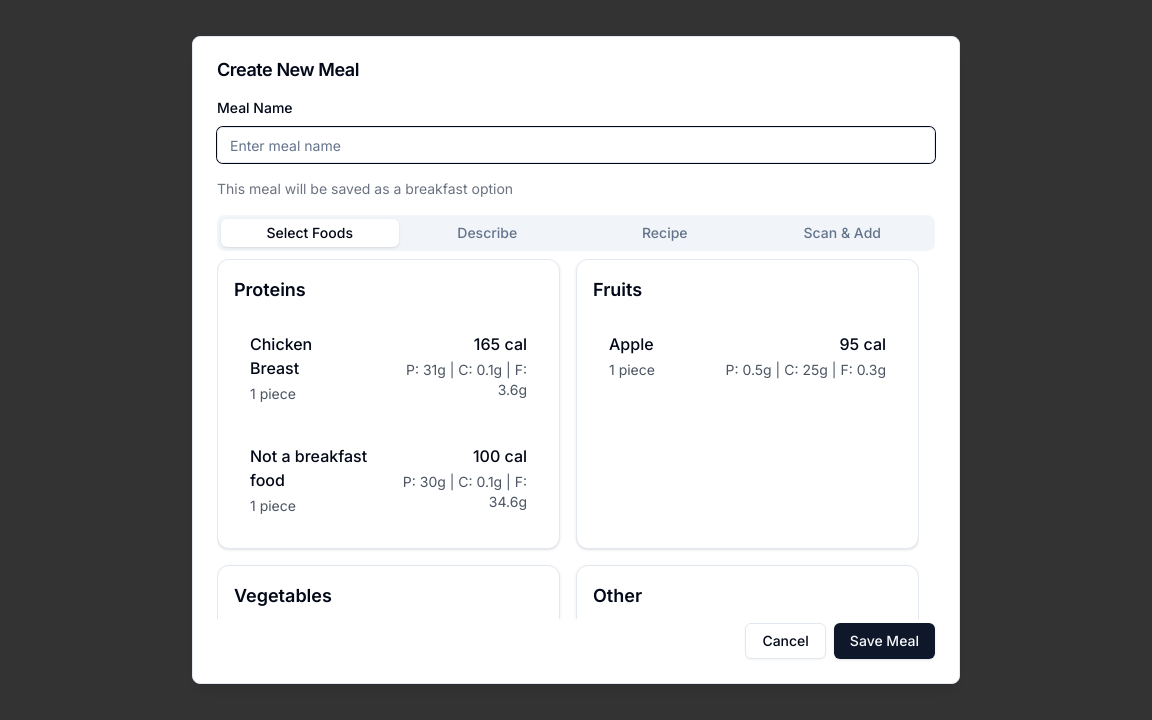
Test case: MealEditor › validates meal name before saving
# Try to save without a name
Click the button "Save Meal".
click(884, 641)  # box [834, 623, 935, 659]
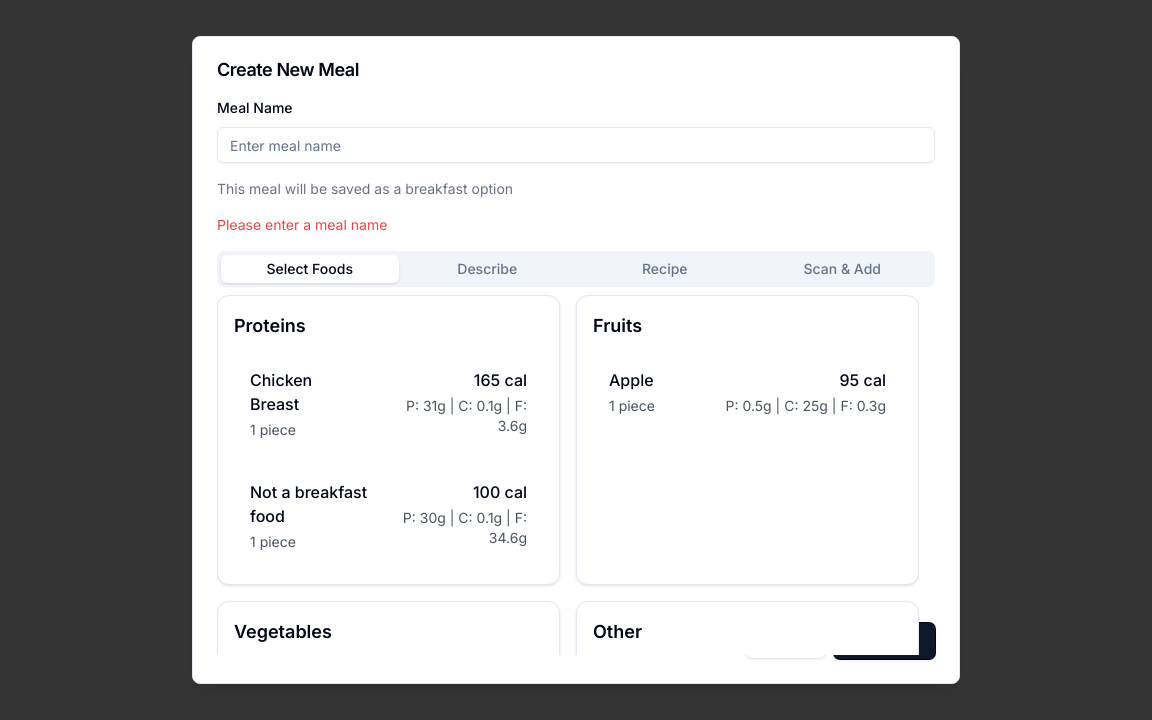
Now the text "Please enter a meal name" is shown, box [217, 216, 387, 233]
